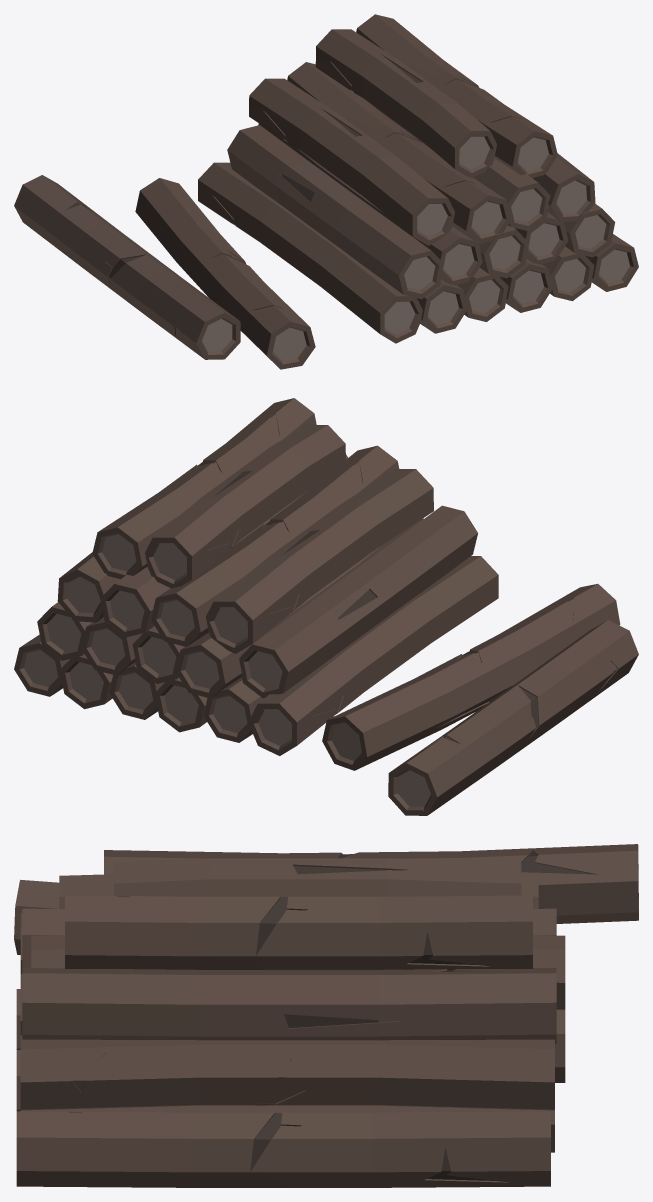
The model's file is props_90.glb.
3 renders of one model, top to bottom at view 1: azimuth 30°, elevation 25°; view 2: azimuth 150°, elevation 25°; view 3: azimuth 270°, elevation 25°, orthographic. The views are drawn at different scales.
Parts seen in each view (by area): view 1: props_90; view 2: props_90; view 3: props_90.
Part boxes in pixels (x1=…): props_90: x1=14, y1=14, x2=638, y2=369; props_90: x1=14, y1=398, x2=638, y2=815; props_90: x1=14, y1=844, x2=638, y2=1187.
Size of the model in its own units: 1.05 by 0.4128 by 0.9398.
Materials: 1 (1 with a texture image).
